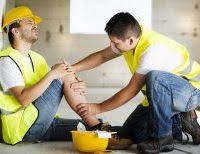hard hat: (70, 129, 118, 153), (1, 6, 43, 30)
high-vis: (120, 25, 200, 90), (1, 49, 47, 147)
